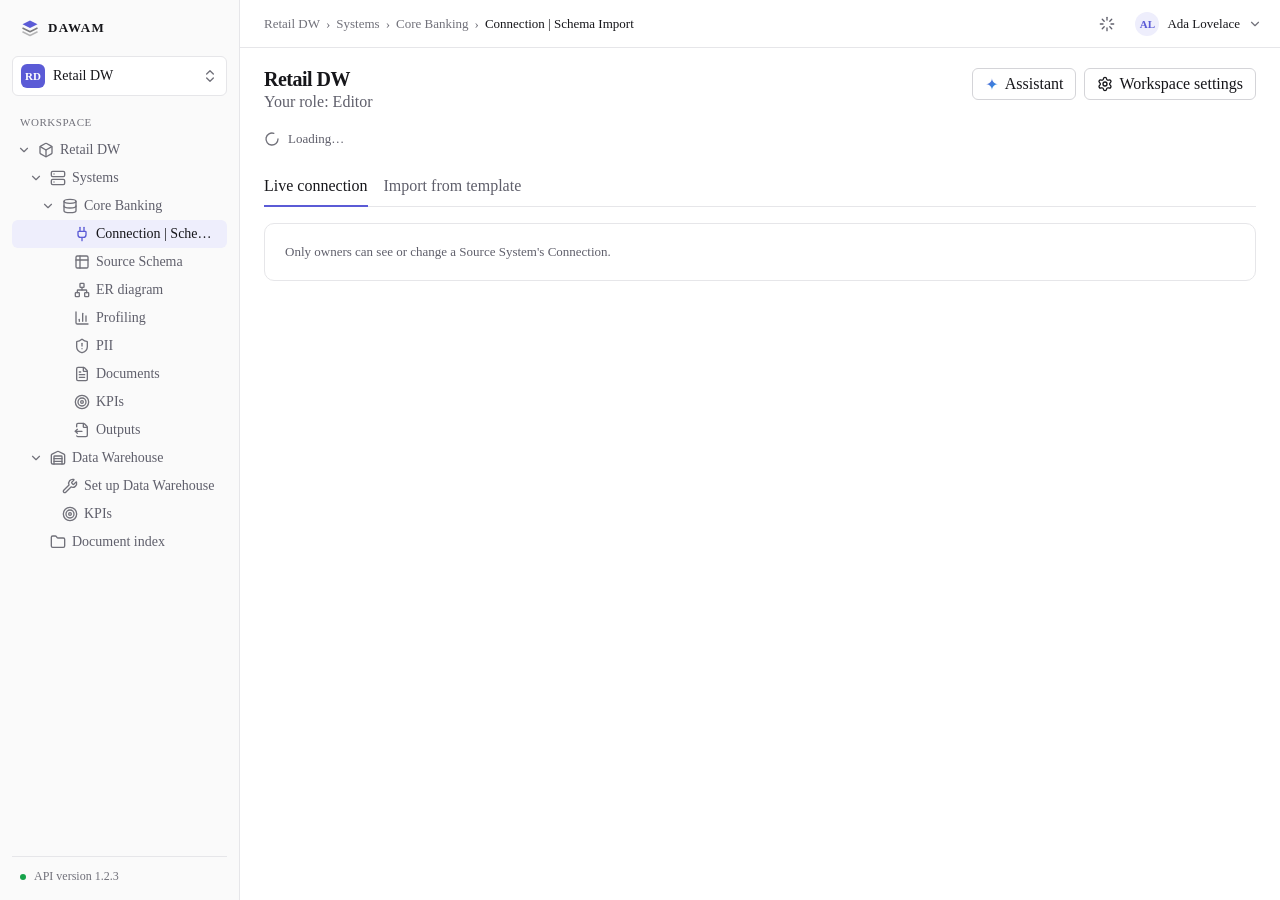
Schema Import downloads › still works when browser storage is unavailable
Press the mouse on the tab "Import from template" at (452, 187), box [384, 167, 521, 207]
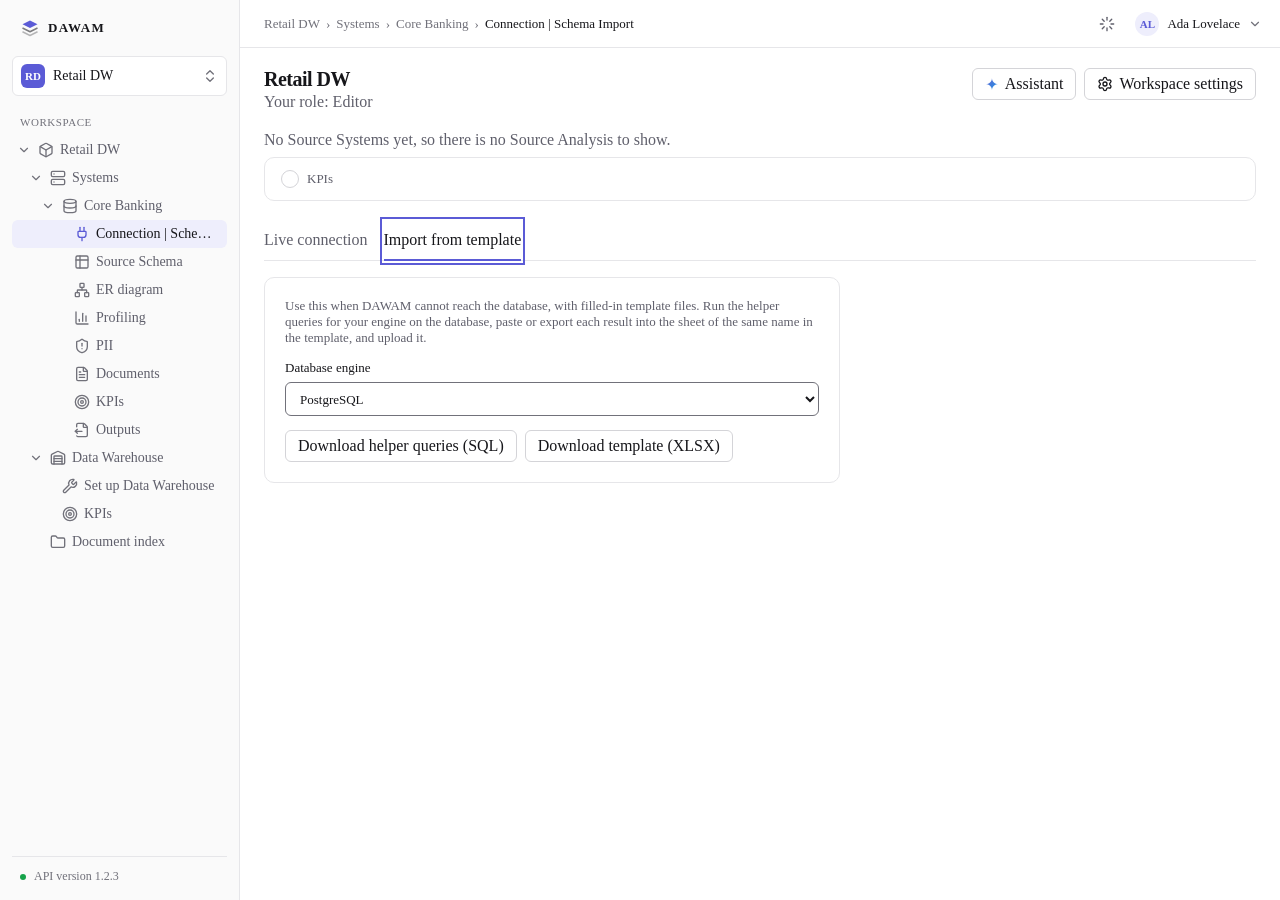
Now the link "Download template (XLSX)" is shown, box [525, 430, 733, 462]
